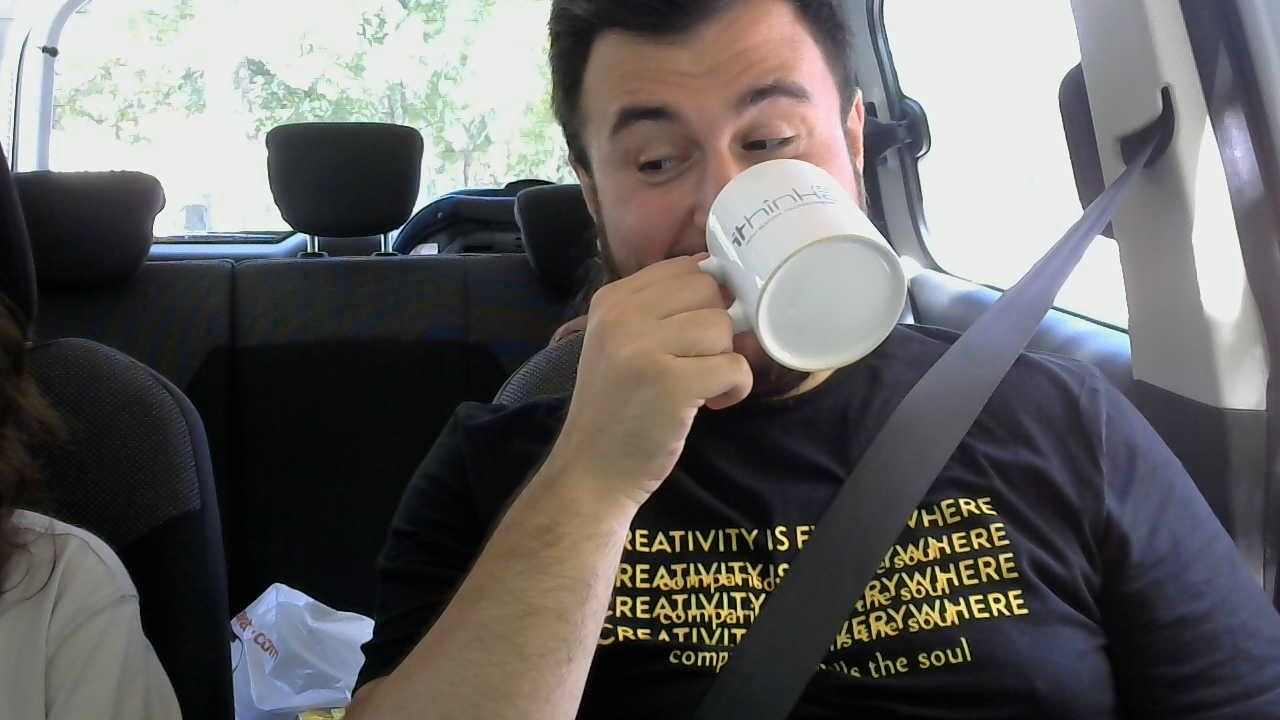Drinking: (563, 29, 905, 404)
